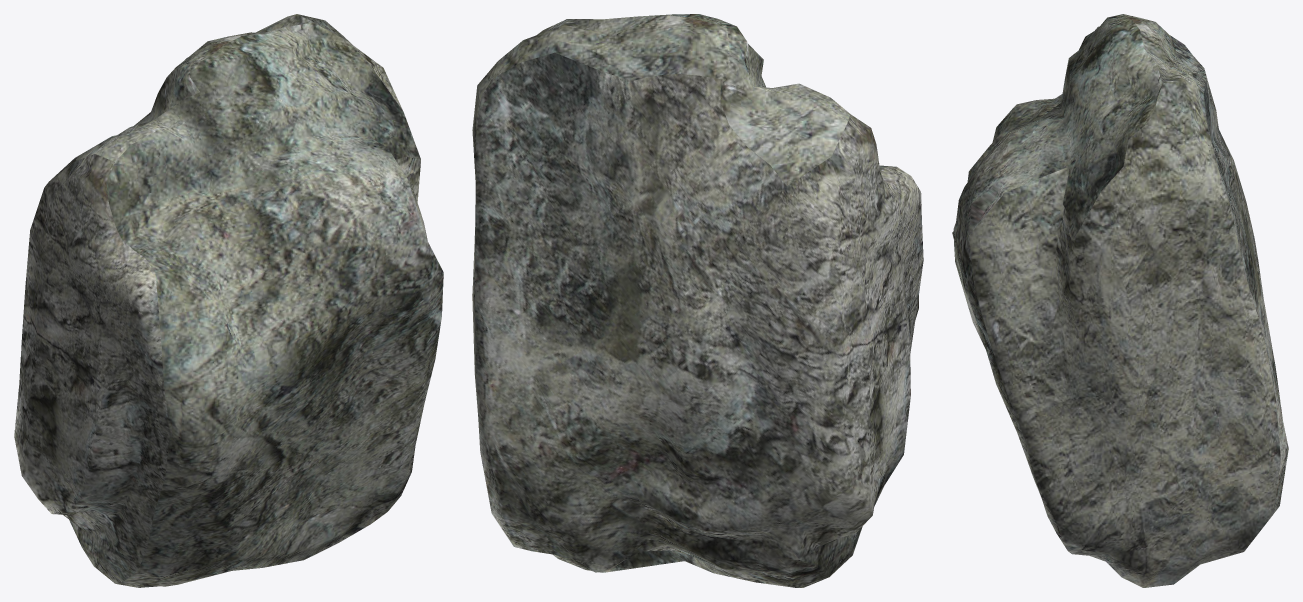
The model's file is Rock_1.obj.
The picture shows the model from 3 angles, left to right: view 1: azimuth 30°, elevation 25°; view 2: azimuth 150°, elevation 25°; view 3: azimuth 270°, elevation 25°; orthographic projection. The views are drawn at different scales.
Visible parts, largest first — view 1: Rock_1; view 2: Rock_1; view 3: Rock_1.
Boxes of the visible parts, x1,y1,x2,y2 form: Rock_1: [14, 14, 443, 587]; Rock_1: [472, 14, 923, 587]; Rock_1: [952, 14, 1288, 587].
Size of the model in its own units: 4.19 by 5.95 by 3.43.
1 material, 1 textured.
